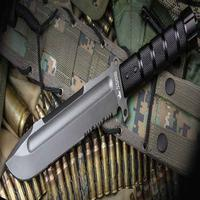knife: (2, 21, 185, 182)
